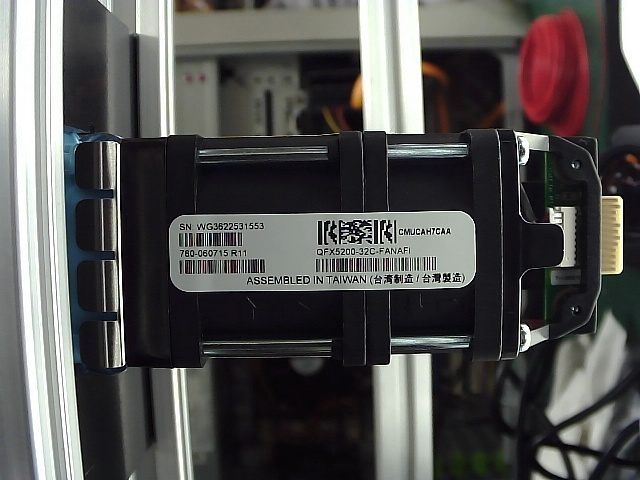6_0: (53, 112, 631, 394)
